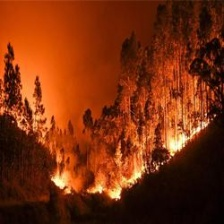fire: (49, 117, 205, 200)
